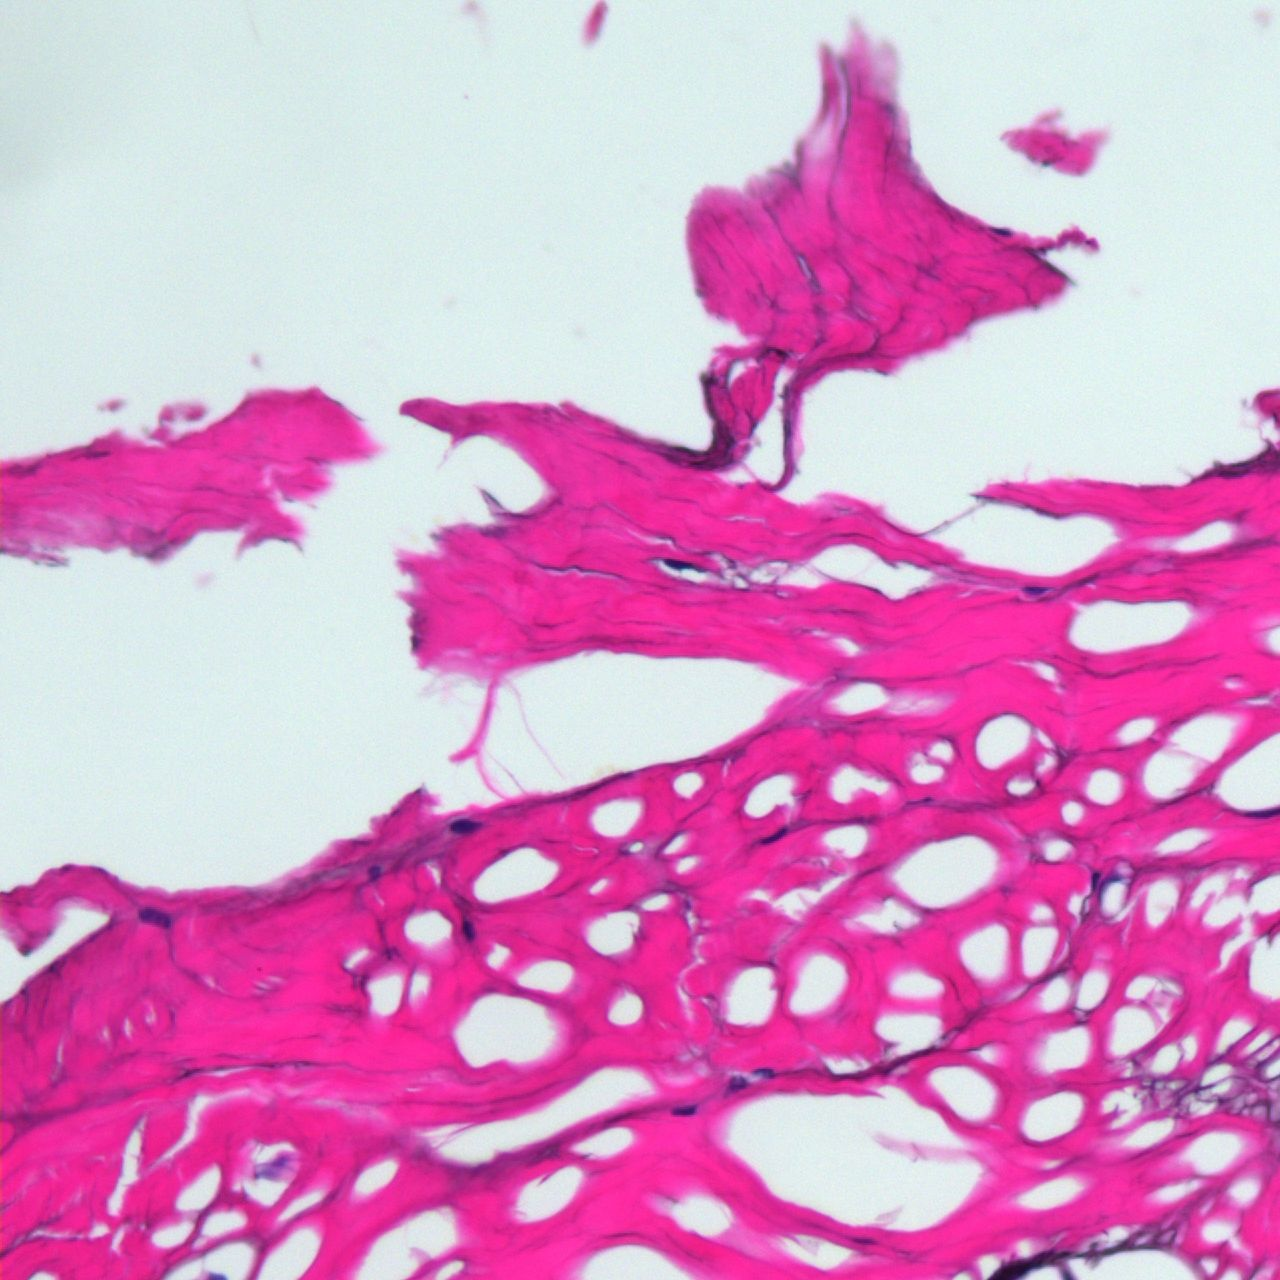nucleus-HE: (138, 905, 173, 928), (761, 826, 788, 847), (663, 557, 693, 572), (450, 819, 477, 833), (990, 225, 1012, 238), (462, 918, 474, 940), (673, 1105, 696, 1115), (1023, 586, 1047, 594), (1091, 872, 1099, 888), (369, 866, 379, 879)
